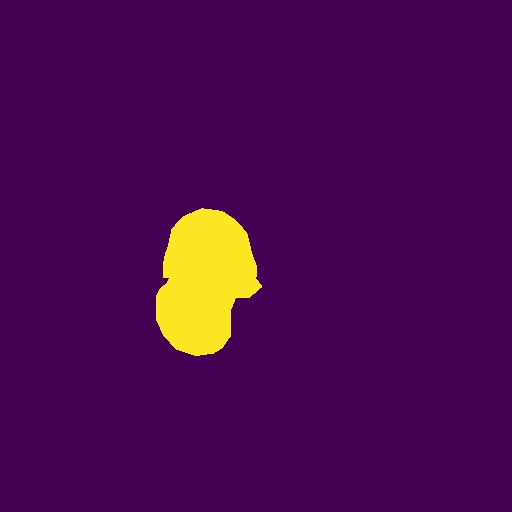Pituirity_tumour: (156, 208, 262, 356)
